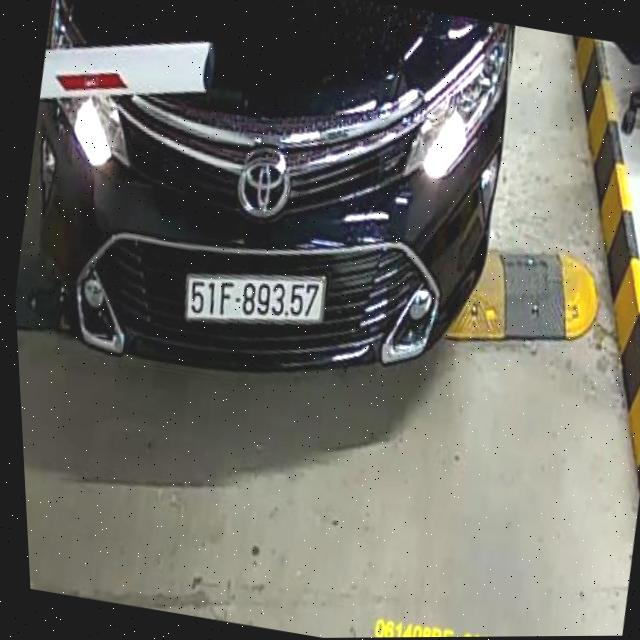car: (0, 0, 546, 436)
plate: (182, 261, 328, 339)
